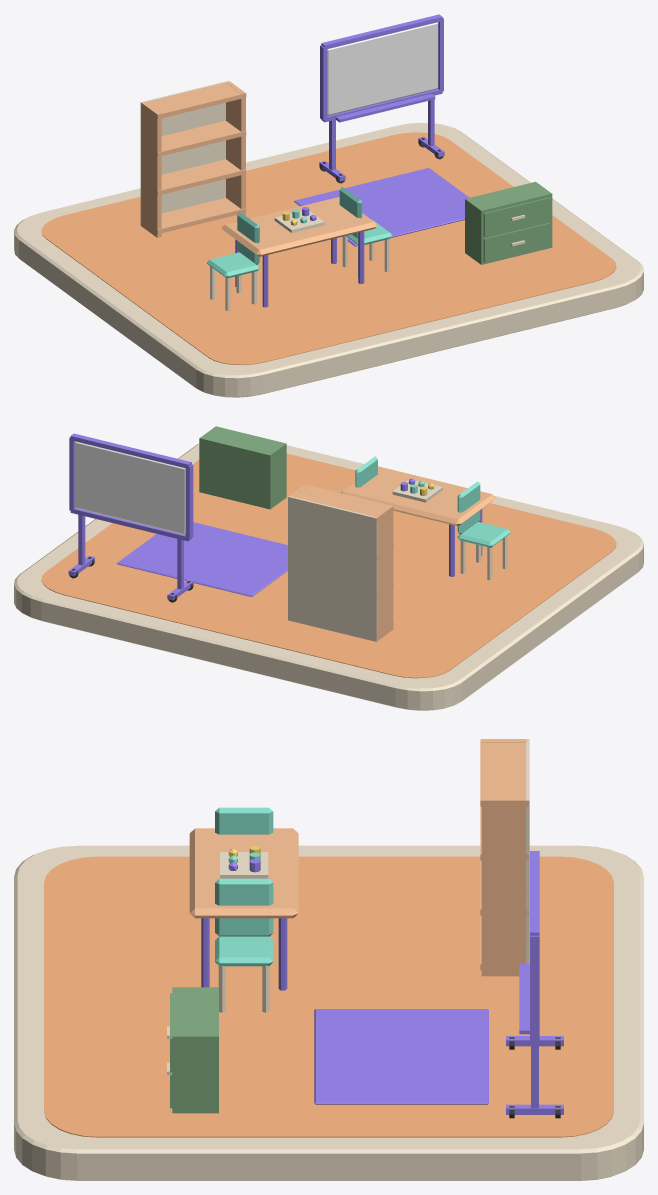
The picture shows the model from 3 angles, top to bottom: view 1: azimuth 30°, elevation 25°; view 2: azimuth 150°, elevation 25°; view 3: azimuth 270°, elevation 25°; orthographic projection. The views are drawn at different scales.
Visible parts, largest first — view 1: COM-02 Floor Surface, COM-01 Rounded Base Direct, Writing surface, Cabinet, Rug, Back, Rounded table top, Side, Side.001, Shelf.003, Shelf.001, Shelf.002 (+6 smaller); view 2: COM-02 Floor Surface, COM-01 Rounded Base Direct, Back, Writing surface, Rug, Cabinet, Rounded table top, Side, Shelf.003, Frame rail.001, Seat, Frame rail (+5 smaller); view 3: COM-02 Floor Surface, COM-01 Rounded Base Direct, Rug, Side.001, Rounded table top, Cabinet, Shelf.003, Backrest.001, Seat.001, Backrest, Frame upright.001, Activity board (+5 smaller).
Part boxes in pixels (x1,y1,x2,y2): COM-02 Floor Surface: (41, 132, 616, 365); COM-01 Rounded Base Direct: (14, 122, 643, 397); Writing surface: (327, 22, 438, 115); Cabinet: (465, 181, 552, 264); Rug: (294, 168, 469, 246); Back: (140, 80, 229, 226); Rounded table top: (222, 197, 377, 256); Side: (141, 102, 161, 237); Side.001: (226, 81, 245, 215); Shelf.003: (141, 83, 246, 118); Shelf.001: (141, 159, 246, 195); Shelf.002: (141, 120, 246, 156); COM-02 Floor Surface: (41, 453, 616, 678); COM-01 Rounded Base Direct: (14, 444, 643, 710); Back: (288, 496, 377, 641); Writing surface: (74, 441, 185, 534); Rug: (117, 522, 287, 596); Cabinet: (199, 426, 286, 509); Rounded table top: (341, 466, 495, 526); Side: (373, 505, 393, 640); Shelf.003: (294, 484, 393, 522); Frame rail.001: (70, 433, 191, 468); Seat: (457, 522, 510, 547); Frame rail: (70, 507, 191, 541); COM-02 Floor Surface: (44, 856, 613, 1137); COM-01 Rounded Base Direct: (14, 845, 643, 1180); Rug: (314, 1009, 488, 1104); Side.001: (481, 797, 527, 976); Rounded table top: (189, 828, 298, 918); Cabinet: (167, 987, 218, 1113); Shelf.003: (480, 739, 528, 806); Backrest.001: (215, 878, 273, 936); Seat.001: (215, 936, 273, 966); Backrest: (215, 807, 273, 834); Frame upright.001: (530, 935, 539, 1039); Activity board: (220, 852, 268, 878).
Bounding box in the file's own units: 6 × 2.04 × 5.2.
Materials: 1 (1 with a texture image).
